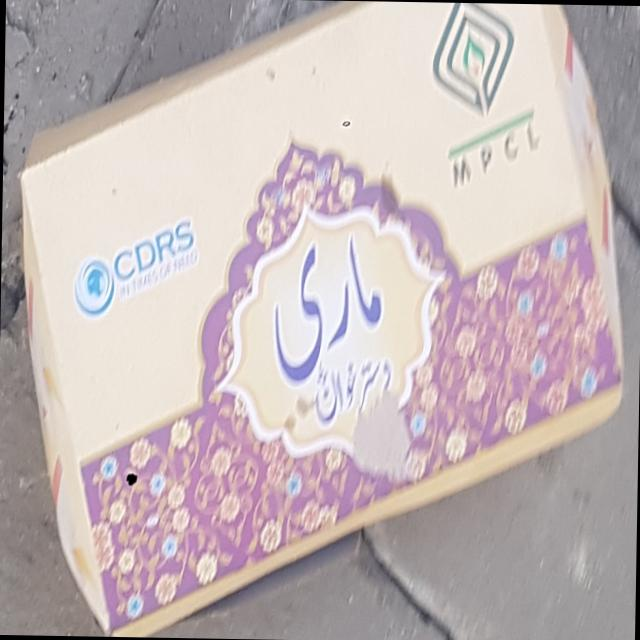electronic: (11, 0, 630, 640)
